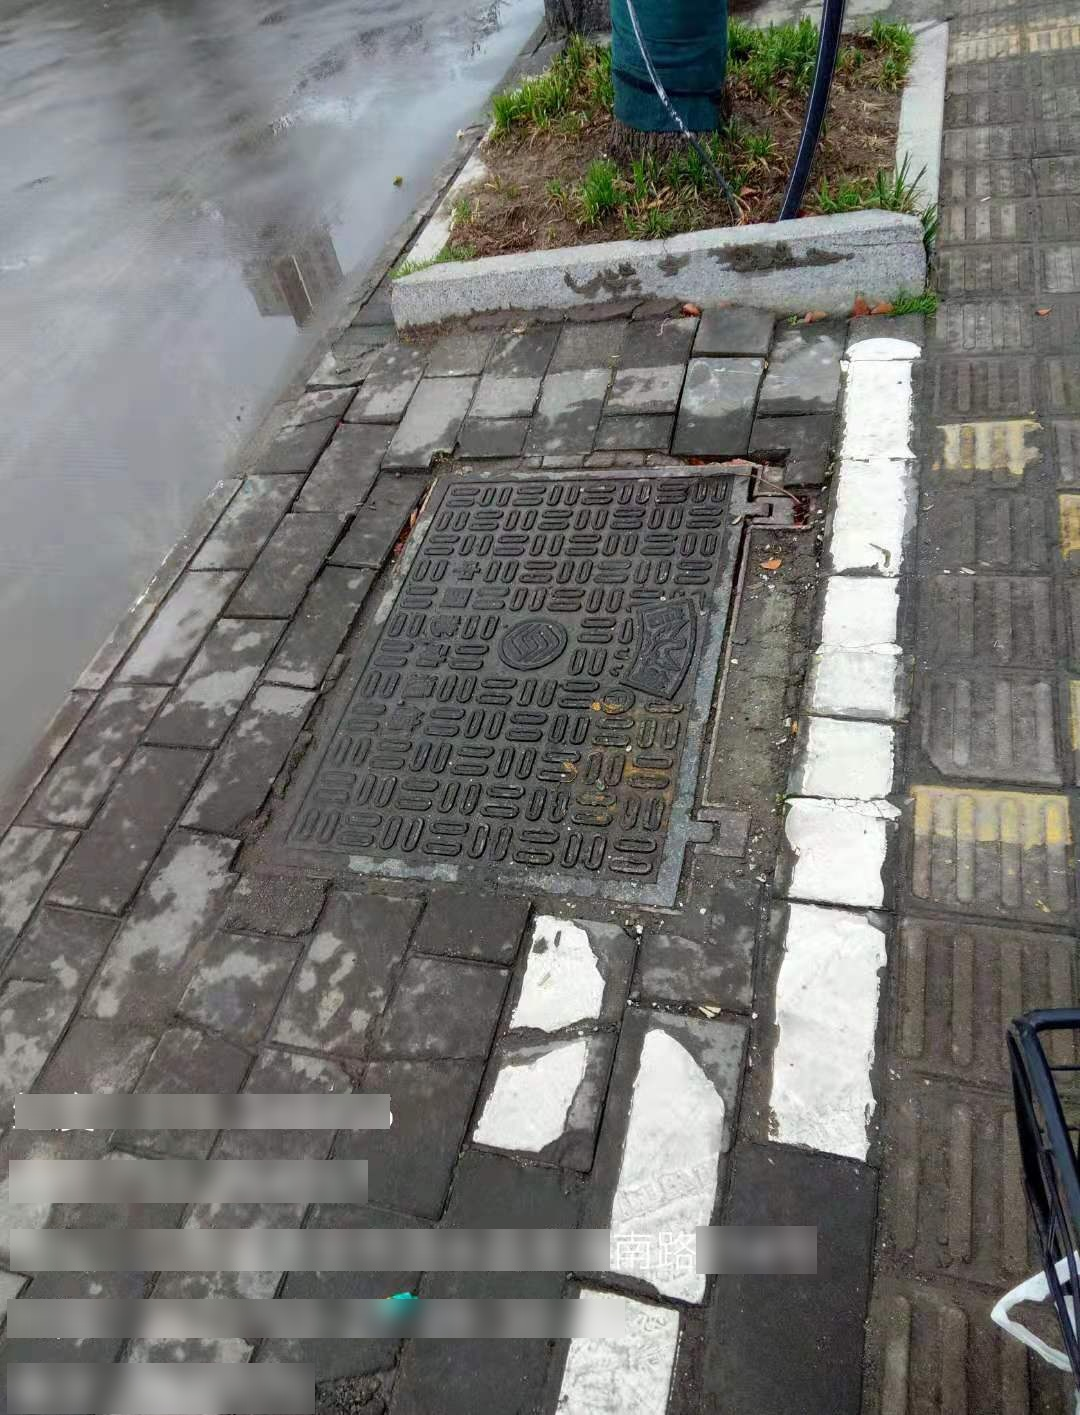good: (238, 458, 809, 918)
